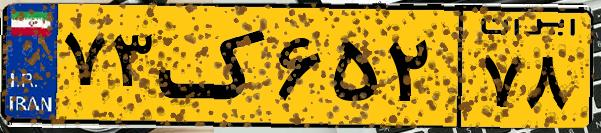2: (385, 28, 445, 110)
3: (110, 28, 158, 98)
5: (330, 28, 385, 110)
6: (270, 28, 330, 110)
7: (57, 26, 110, 100), (475, 38, 525, 113)
8: (525, 38, 570, 115)
ک: (158, 12, 270, 120)
